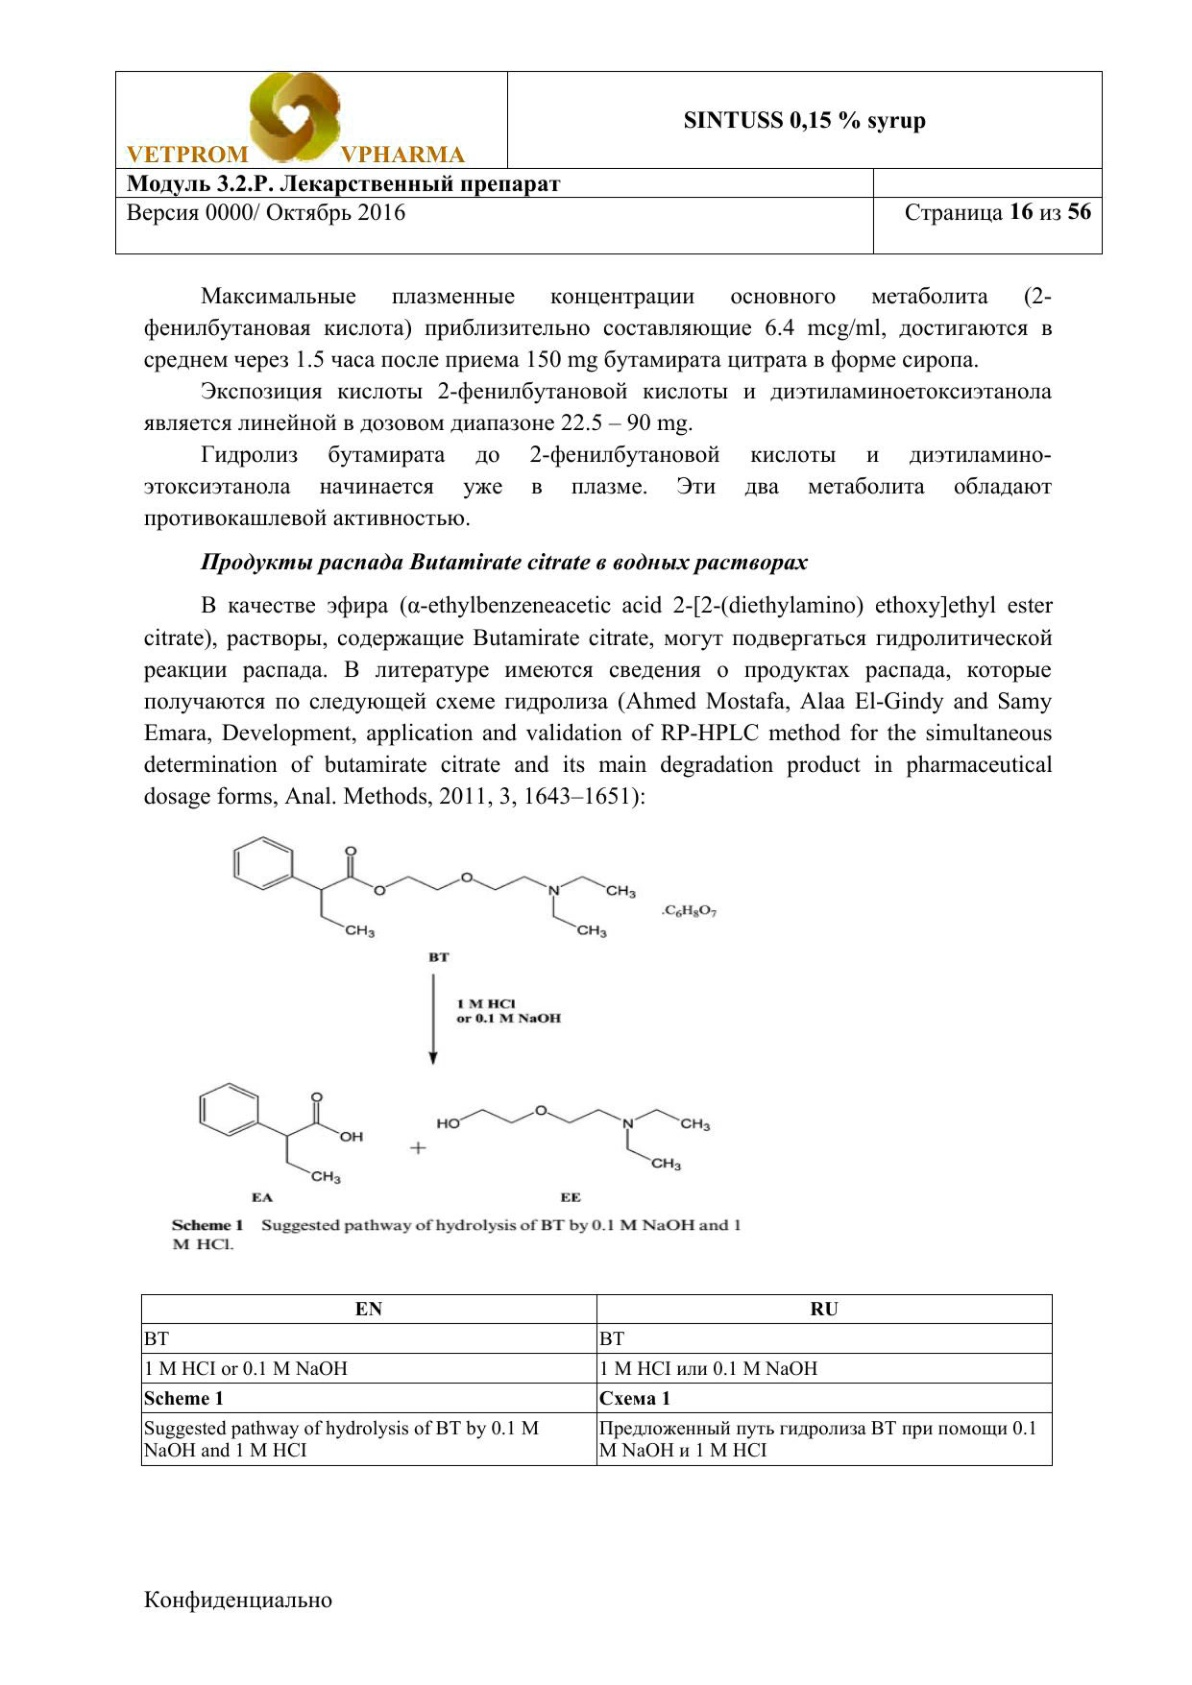full_lined: (141, 1293, 1054, 1467)
merged_cells: (114, 70, 1103, 255)
